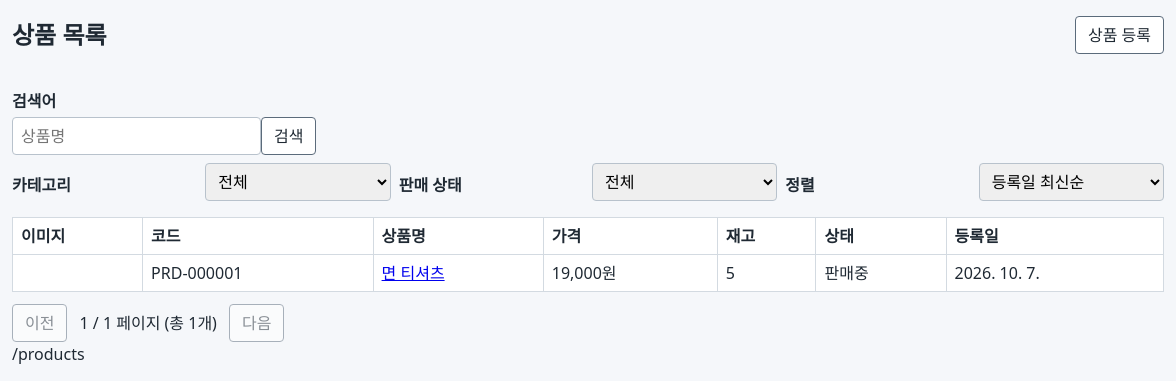
Test: 상품 목록의 검색·필터·정렬 › 검색어를 제출하면 q 파라미터로 조회하고 URL에 반영한다
The width and height of the screenshot is (1176, 381).
Expected: the link "면 티셔츠" is shown, [382, 262, 445, 284]
In the field labelled "검색어": [136, 136] box [12, 117, 261, 155], type "셔츠"
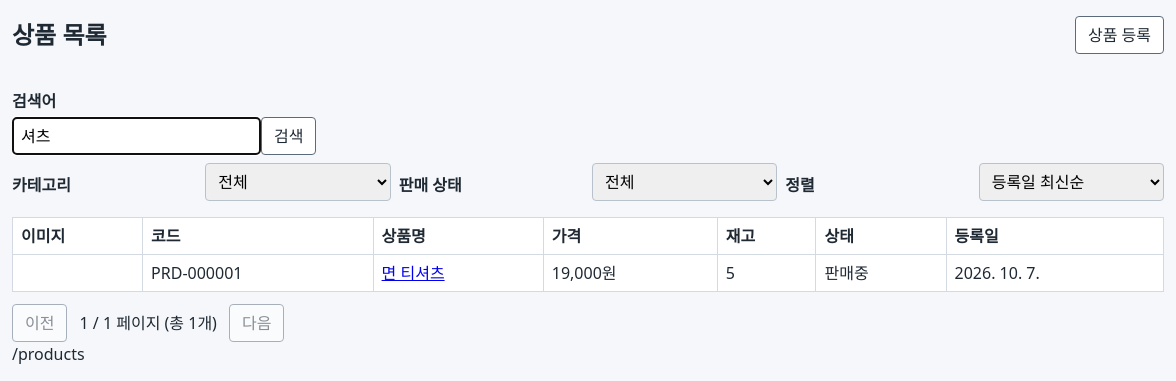
Click the button "검색": [289, 136] box [261, 117, 316, 155]
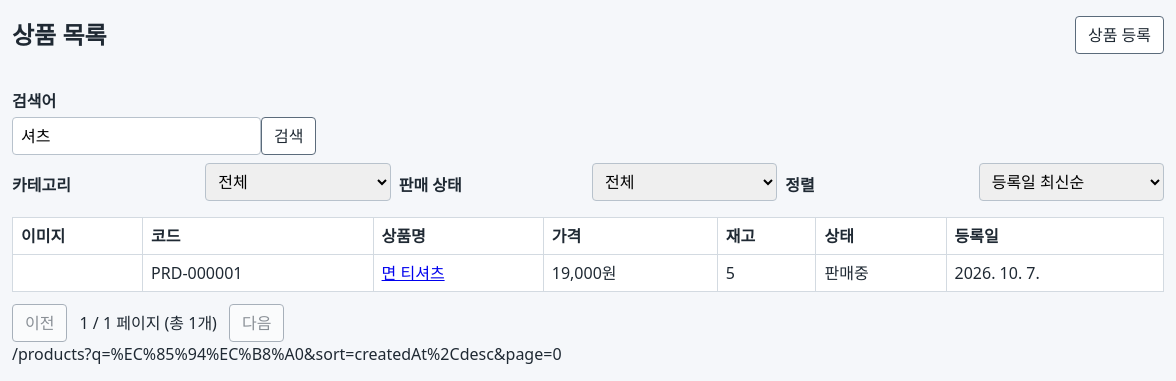
Now the text with test id "location" shows "q=%EC%85%94%EC%B8%A0", box [12, 343, 562, 365]
